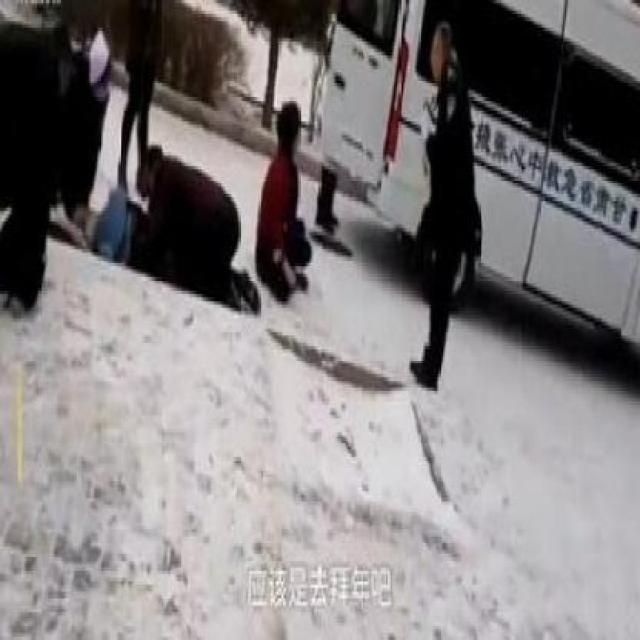fall: (48, 169, 163, 274)
